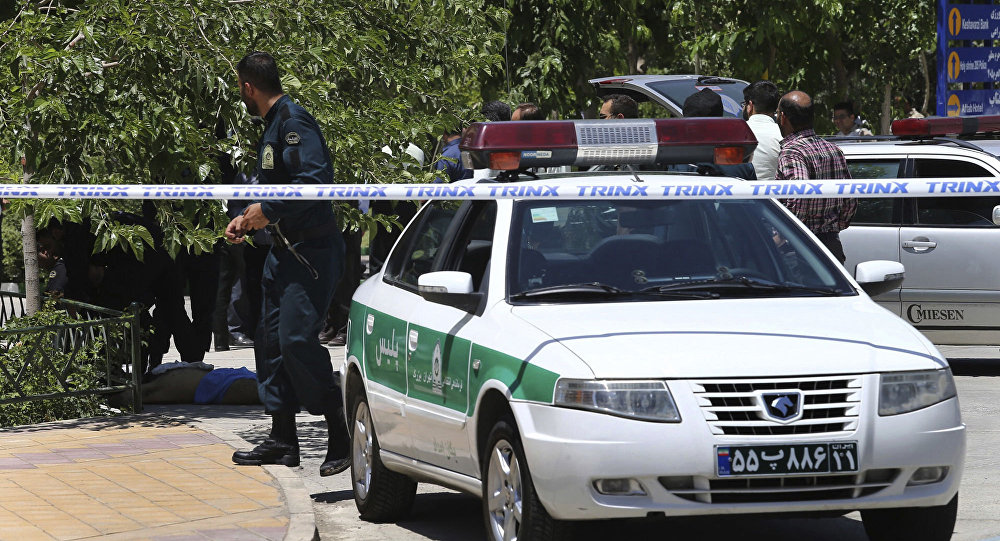car: (712, 438, 857, 482)
